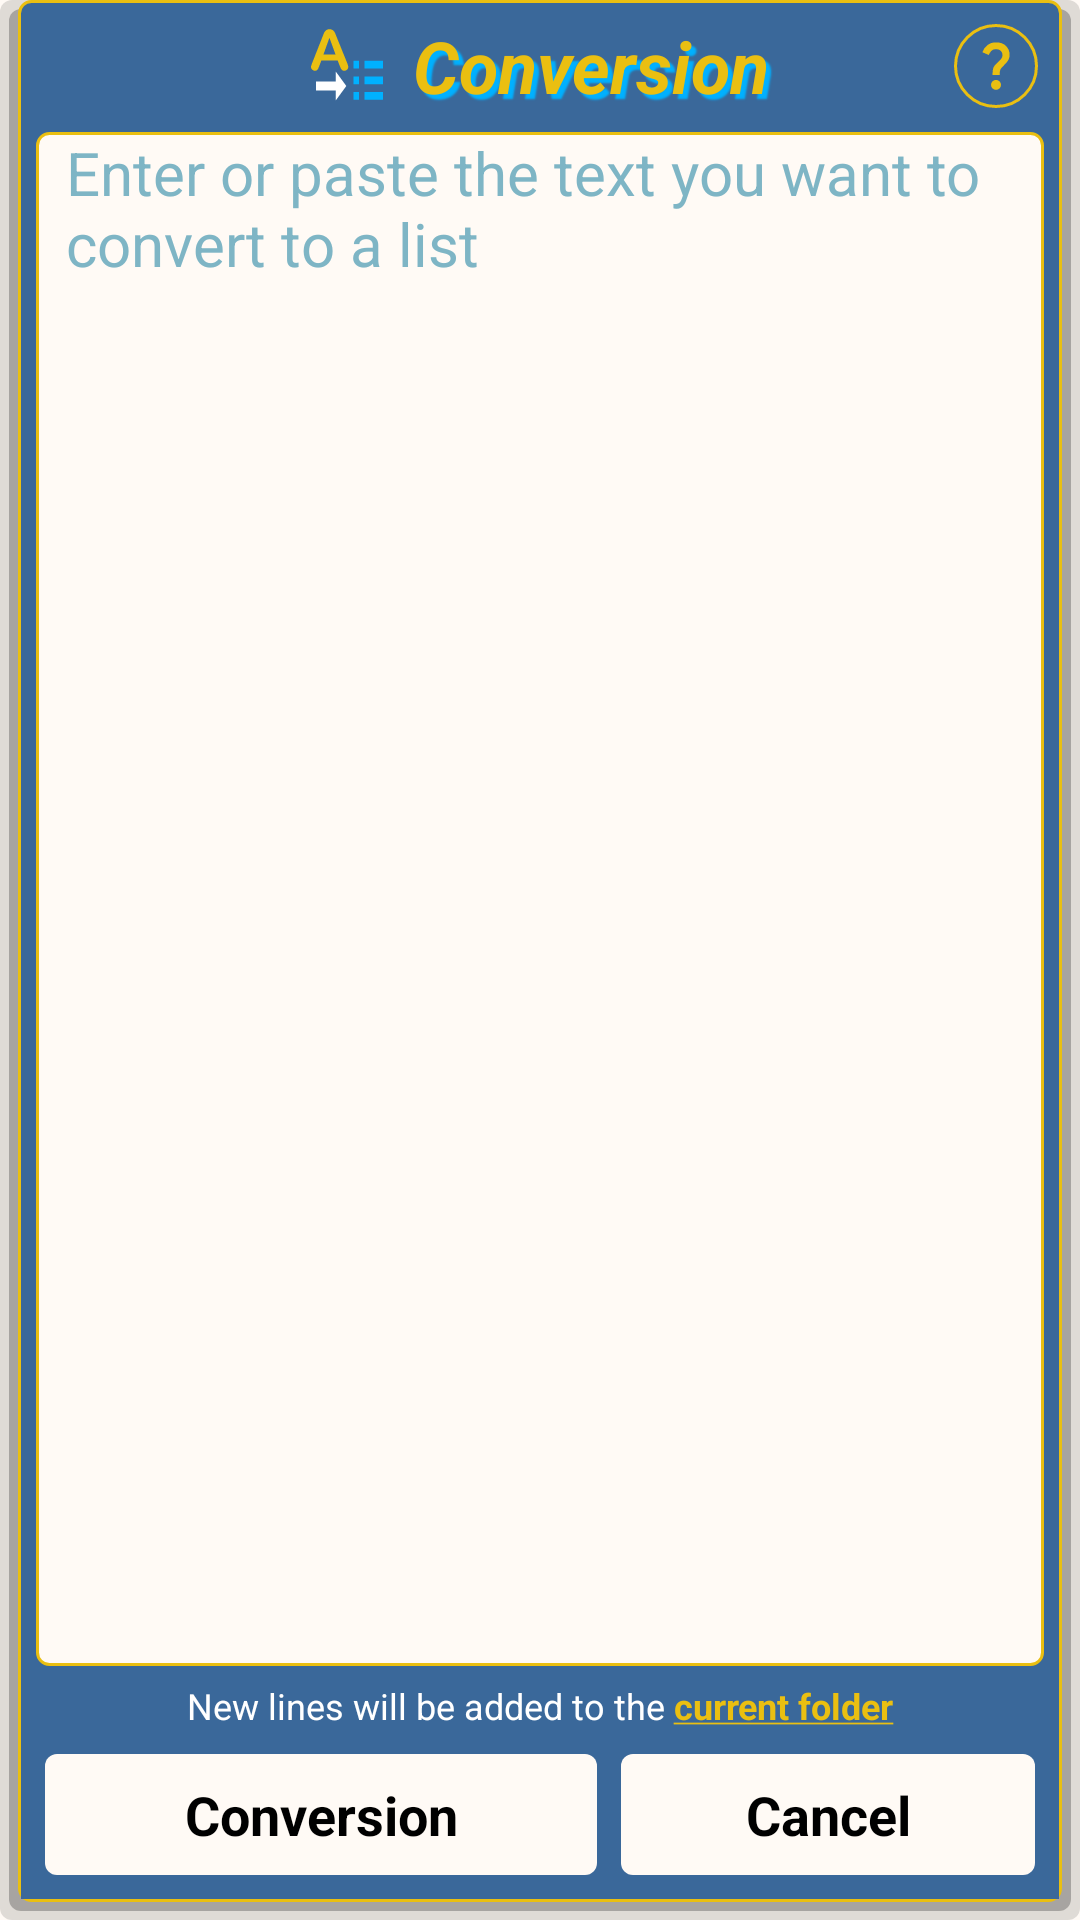

Where to tap for icons on this 1080×1920 app screen, as (x=x, y=y):
help: (x=996, y=66)
